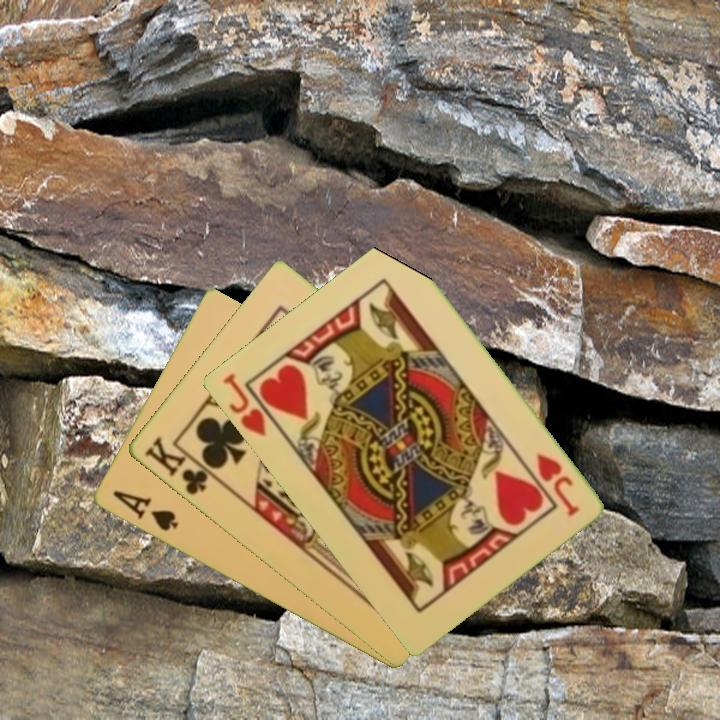As: (108, 486, 181, 534)
Jh: (219, 369, 269, 440), (532, 449, 581, 519)
Kc: (140, 433, 220, 498)
